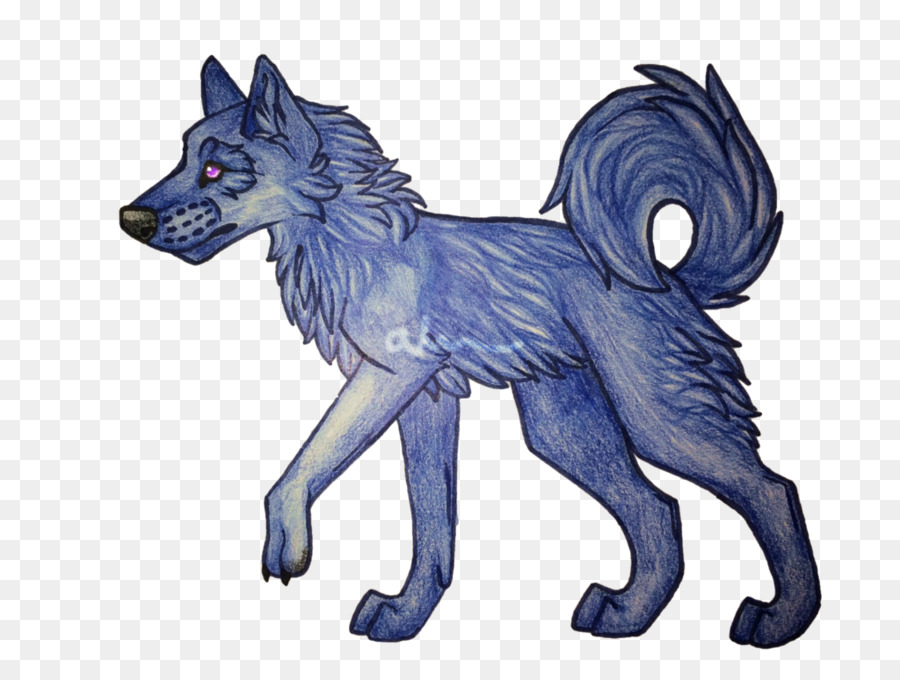Lobo: (101, 33, 831, 651)
